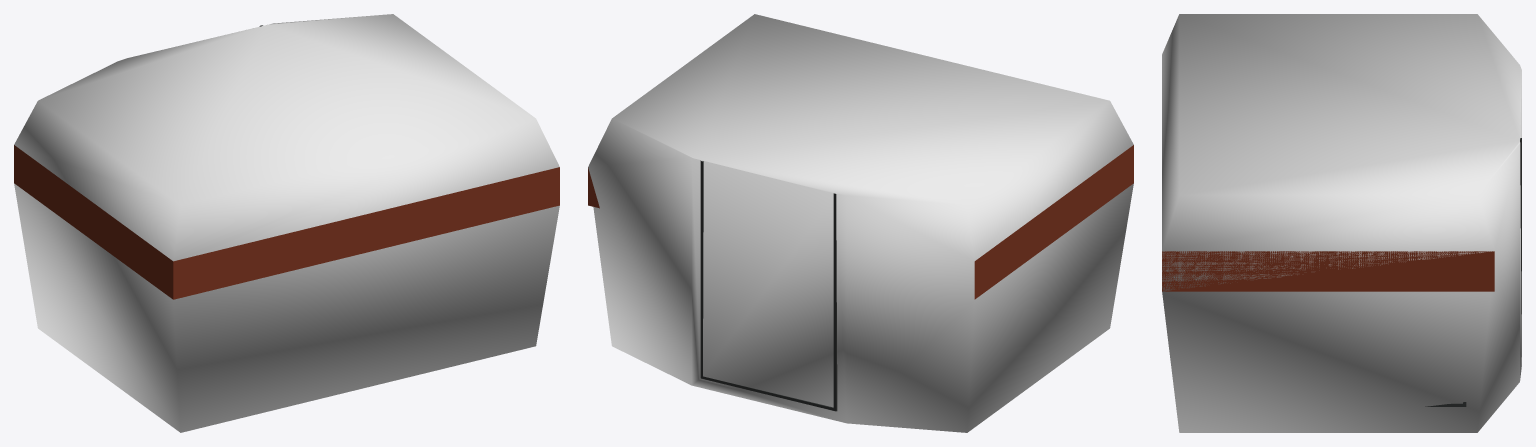
The picture shows the model from 3 angles, left to right: view 1: azimuth 30°, elevation 25°; view 2: azimuth 150°, elevation 25°; view 3: azimuth 270°, elevation 25°; orthographic projection. The views are drawn at different scales.
Visible parts, largest first — view 1: struct_city_block_low_base_01_col, struct_city_block_low_base_01; view 2: struct_city_block_low_base_01_col, struct_city_block_low_base_01; view 3: struct_city_block_low_base_01_col, struct_city_block_low_base_01.
Boxes of the visible parts, bbox=[...] form: struct_city_block_low_base_01_col: bbox=[14, 14, 559, 432]; struct_city_block_low_base_01: bbox=[14, 25, 559, 299]; struct_city_block_low_base_01_col: bbox=[588, 14, 1133, 432]; struct_city_block_low_base_01: bbox=[588, 145, 1133, 411]; struct_city_block_low_base_01_col: bbox=[1162, 14, 1521, 432]; struct_city_block_low_base_01: bbox=[1162, 138, 1521, 406].
Bounding box in the file's own units: 10.14 × 5.71 × 7.83.
Materials: 3 (2 with a texture image).
